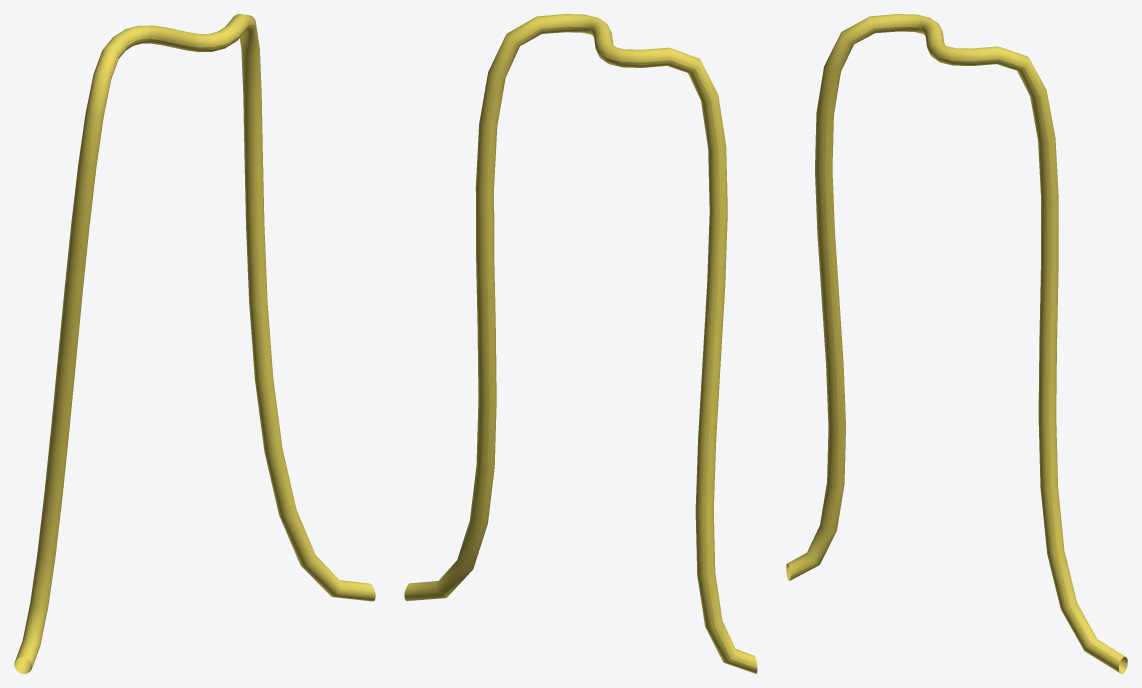
File: Rope.fbx
3 renders of one model, left to right at view 1: azimuth 30°, elevation 25°; view 2: azimuth 150°, elevation 25°; view 3: azimuth 330°, elevation 25°, orthographic. The views are drawn at different scales.
Parts seen in each view (by area): view 1: BezierCurve; view 2: BezierCurve; view 3: BezierCurve.
Boxes of the visible parts, left/top/right/bottom form: BezierCurve: left=14, top=14, right=375, bottom=673; BezierCurve: left=404, top=14, right=757, bottom=673; BezierCurve: left=786, top=14, right=1127, bottom=673.
Size of the model in its own units: 221 by 369 by 46.25.
